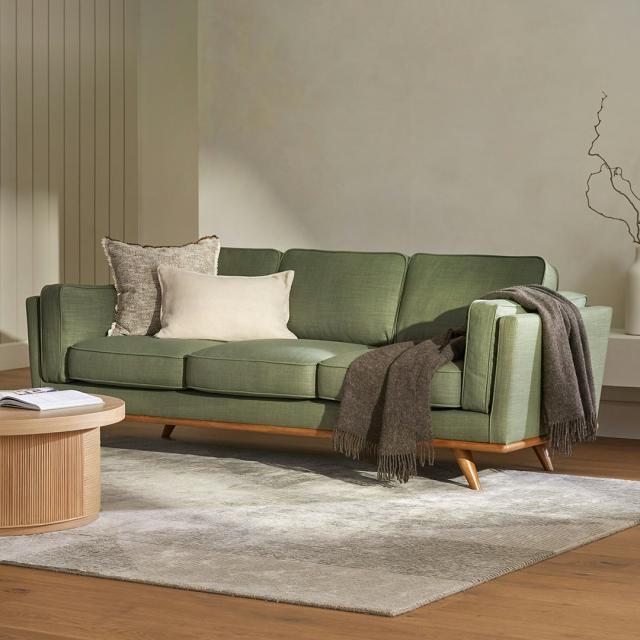sofa: (26, 244, 612, 491)
